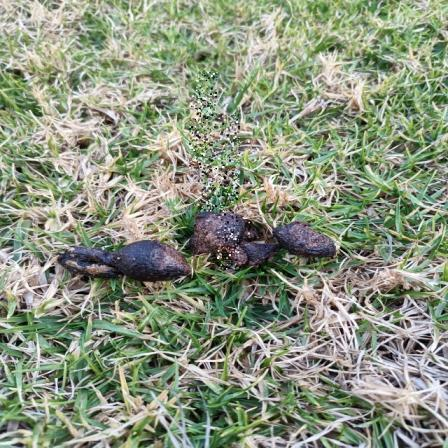dog-poop: (67, 207, 345, 279)
